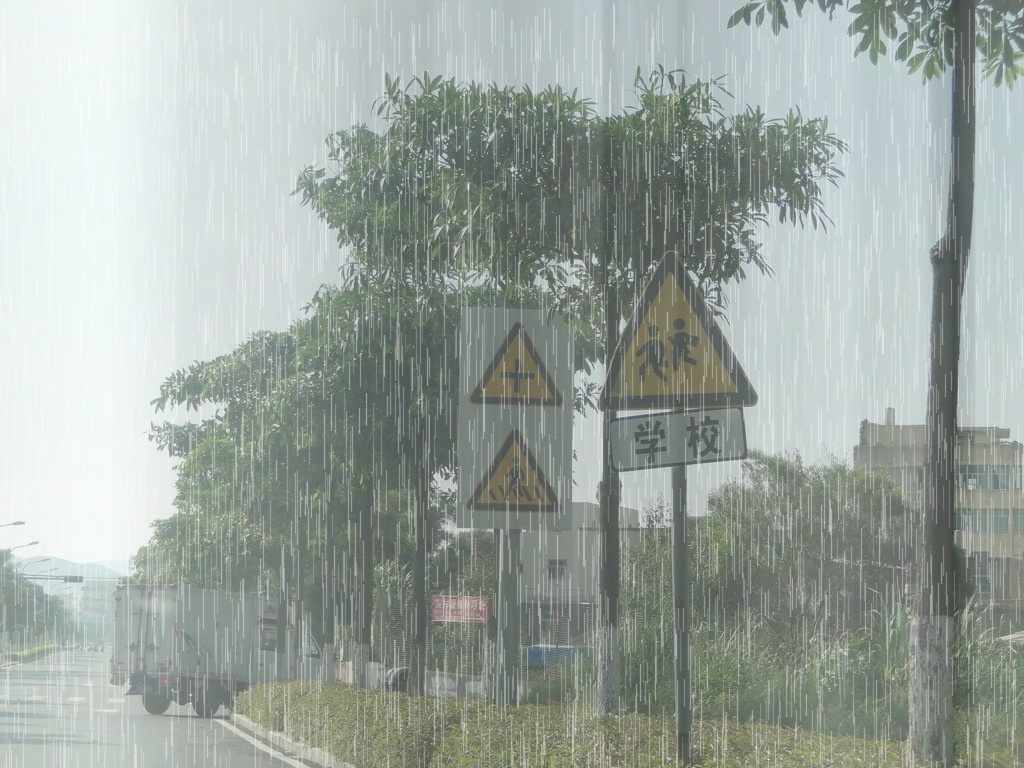Warning Signs: (598, 249, 758, 411), (465, 427, 563, 516), (468, 320, 564, 408)
